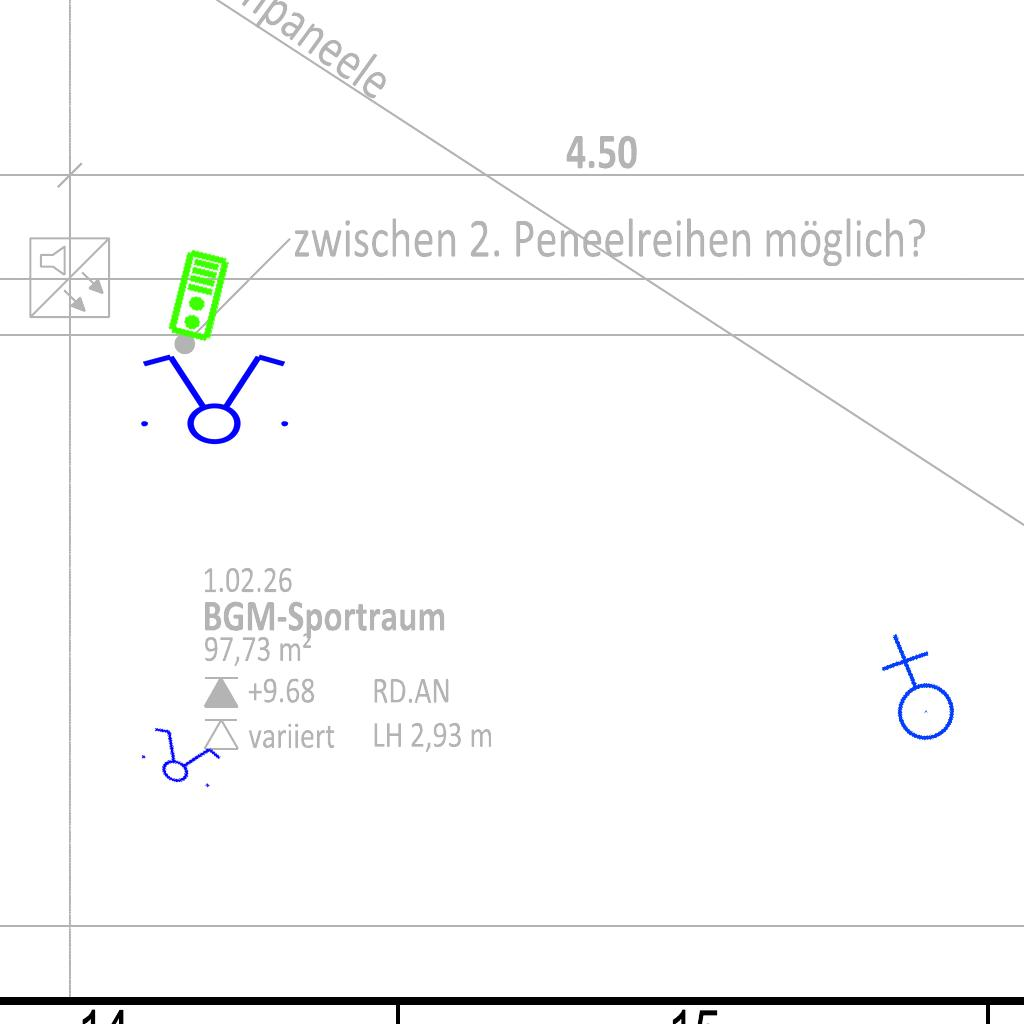Elektroanschluss_allgemein_230V_Geraeteanschlussdose_230V: (852, 630, 977, 758)
Gegensprechanlage_mit_Video: (166, 247, 233, 345)
Serienschalter: (129, 350, 297, 446), (131, 719, 229, 799)
